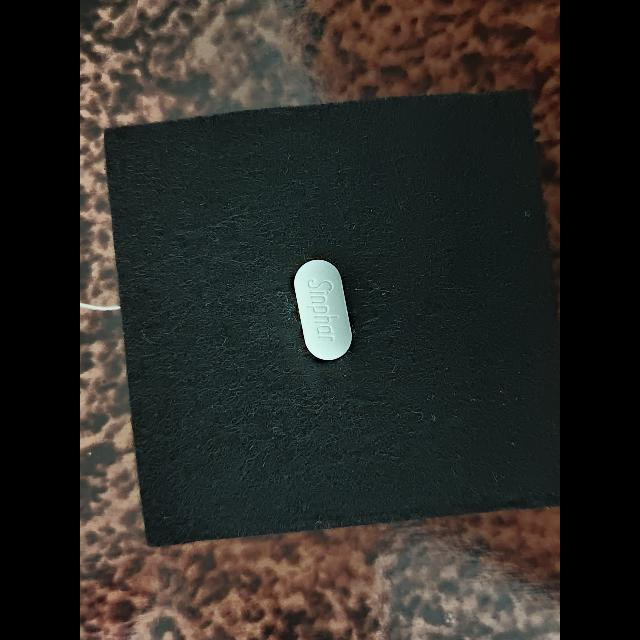Intact Pill: (294, 259, 352, 360)
